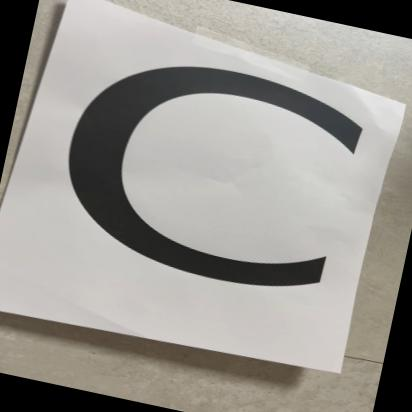seat: (0, 0, 389, 385)
